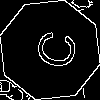C: (25, 25, 79, 72)
